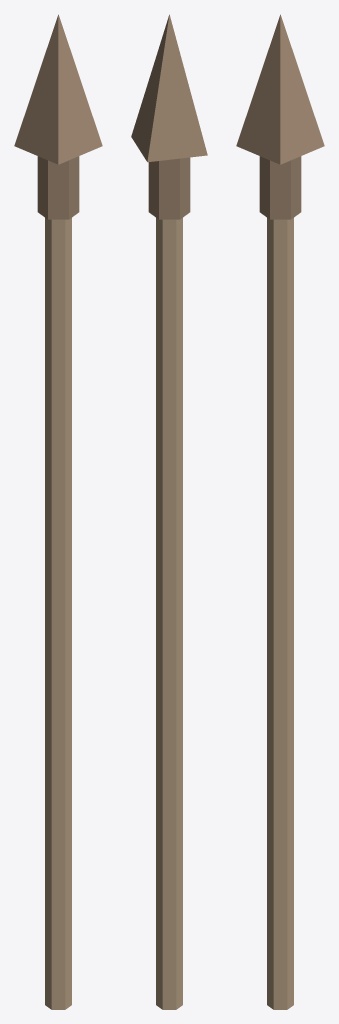
Rendered from spear.glb.
The picture shows the model from 3 angles, left to right: view 1: azimuth 90°, elevation 25°; view 2: azimuth 150°, elevation 25°; view 3: azimuth 270°, elevation 25°; orthographic projection.
Visible parts, largest first — view 1: spear_wood, spear_iron; view 2: spear_wood, spear_iron; view 3: spear_wood, spear_iron.
Boxes of the visible parts, left/top/right/bottom form: spear_wood: left=45, top=218, right=71, bottom=1009; spear_iron: left=14, top=14, right=102, bottom=219; spear_wood: left=156, top=218, right=182, bottom=1009; spear_iron: left=131, top=14, right=207, bottom=219; spear_wood: left=267, top=218, right=293, bottom=1009; spear_iron: left=236, top=14, right=324, bottom=219.
Size of the model in its own units: 0.0567 by 0.7 by 0.0567.
